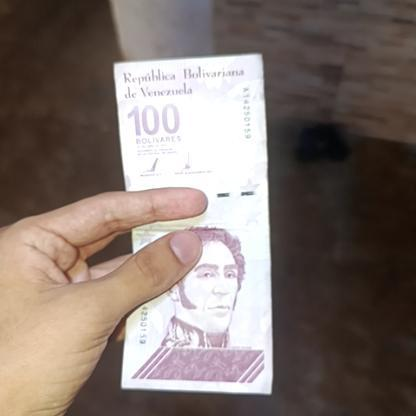one_hundred-front-vef: (116, 55, 274, 395)
